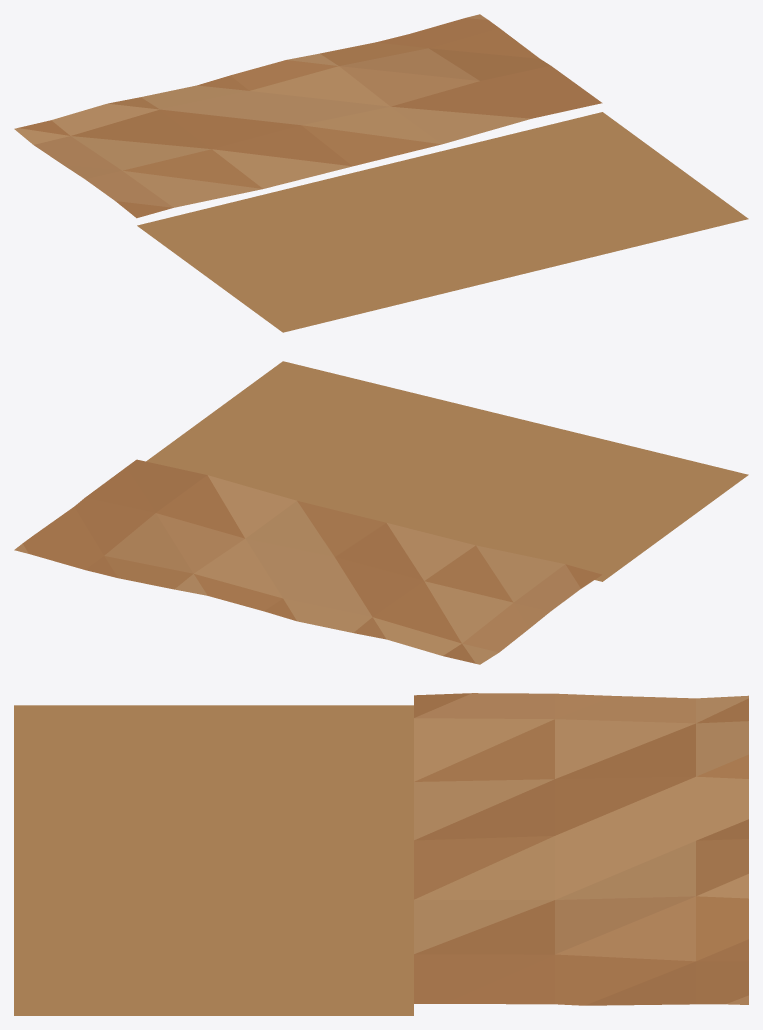
3 renders of one model, top to bottom at view 1: azimuth 30°, elevation 25°; view 2: azimuth 150°, elevation 25°; view 3: azimuth 270°, elevation 25°, orthographic. The views are drawn at different scales.
Parts seen in each view (by area): view 1: baked; view 2: baked; view 3: baked.
Boxes of the visible parts, x1,y1,x2,y2 form: baked: [14, 14, 748, 332]; baked: [14, 361, 748, 664]; baked: [14, 693, 748, 1015].
Bounding box in the file's own units: 62.5 × 1.34 × 62.5.
